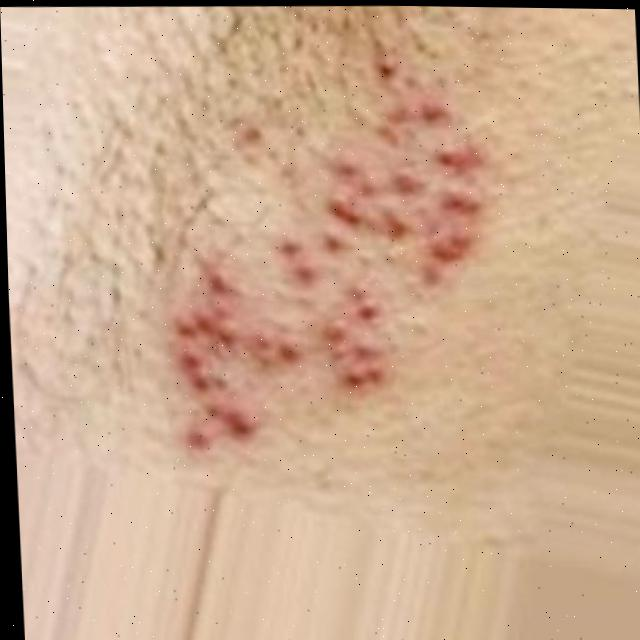Shingles: (169, 101, 492, 453)
